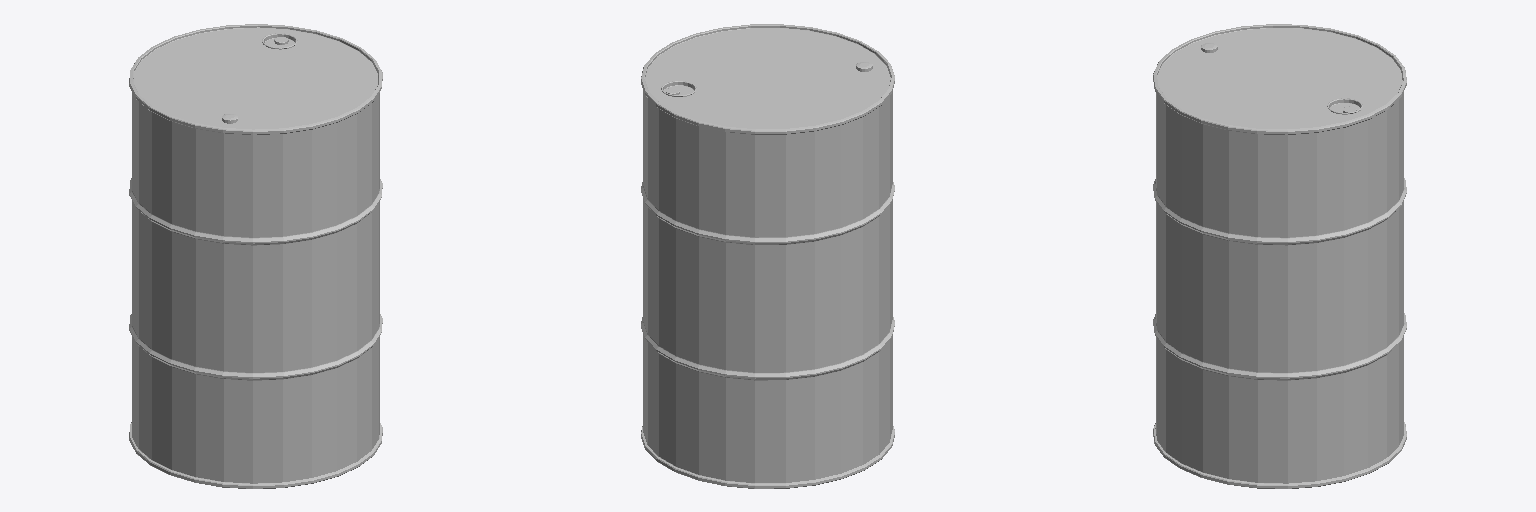
Rendered from Barrel.obj.
The picture shows the model from 3 angles: view 1: azimuth 30°, elevation 25°; view 2: azimuth 150°, elevation 25°; view 3: azimuth 270°, elevation 25°; orthographic projection.
Parts seen in each view (by area): view 1: Barrel_01; view 2: Barrel_01; view 3: Barrel_01.
Part boxes in pixels (left/top/right/bottom): Barrel_01: left=129, top=24, right=382, bottom=488; Barrel_01: left=641, top=24, right=894, bottom=488; Barrel_01: left=1153, top=24, right=1406, bottom=488.
Size of the model in its own units: 0.563 by 0.88 by 0.563.